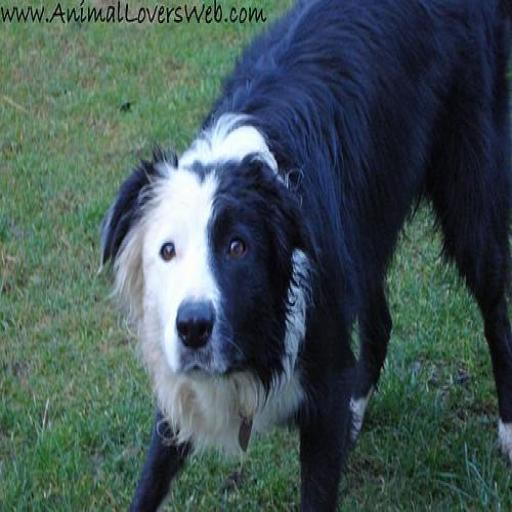dog_face: (105, 145, 325, 396)
